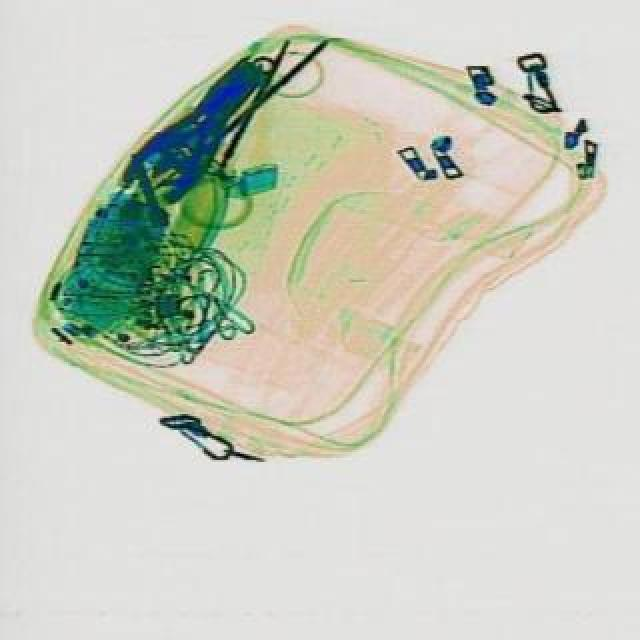wrench: (116, 60, 264, 216)
